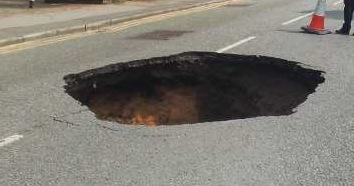Hole_in_the_road: (53, 44, 328, 141)
Road_cone: (302, 1, 333, 39)
